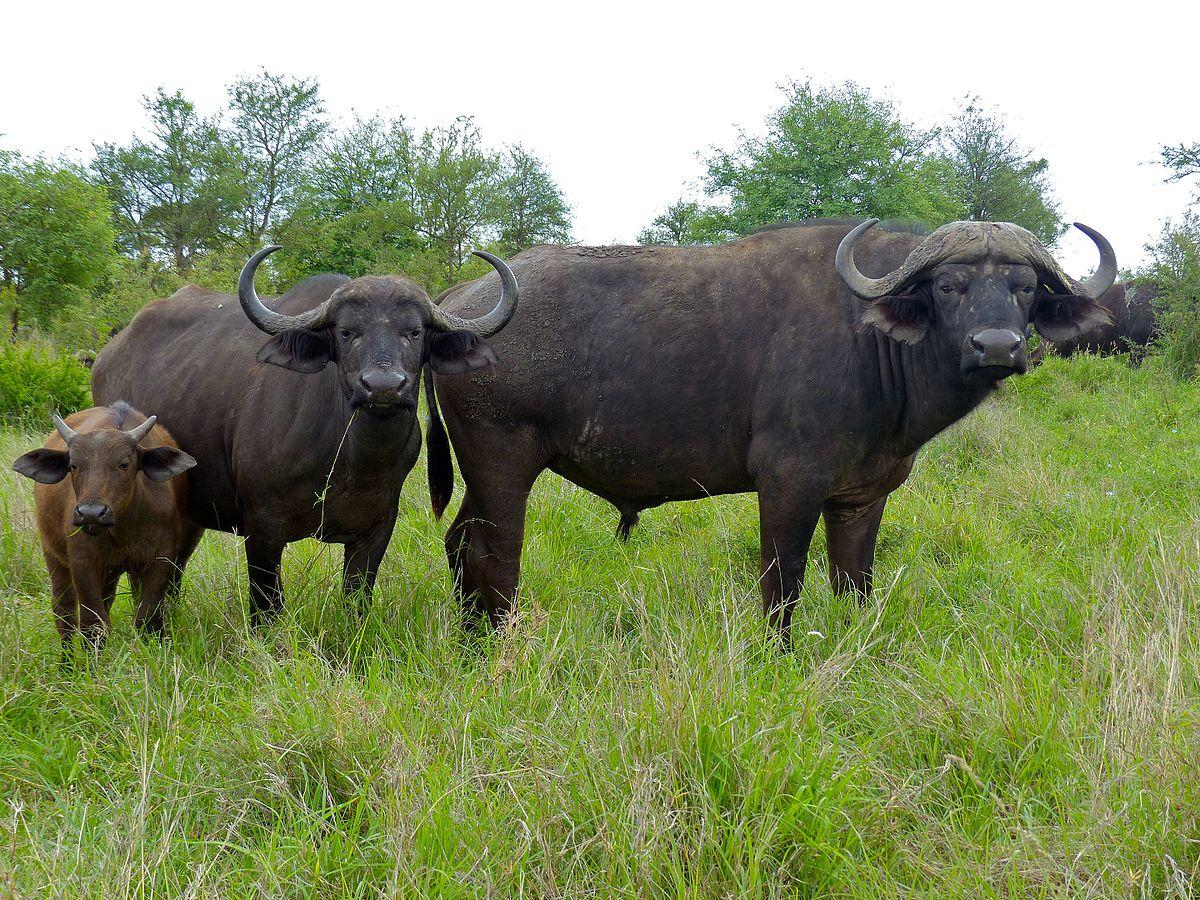Buffalo: (30, 126, 1093, 670)
